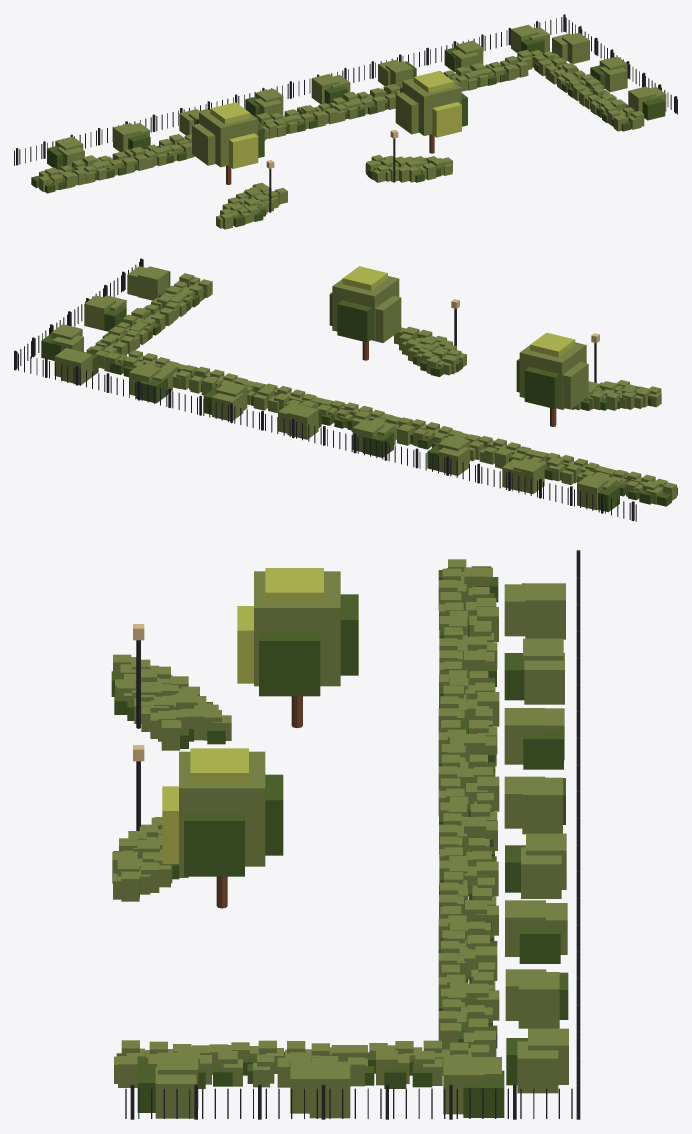
Rendered from chunk_-1_-3.glb.
3 renders of one model, top to bottom at view 1: azimuth 30°, elevation 25°; view 2: azimuth 150°, elevation 25°; view 3: azimuth 270°, elevation 25°, orthographic. The views are drawn at different scales.
Visible parts, largest first — view 1: chunk_-1_-3__tree, chunk_-1_-3__feat_garden, chunk_-1_-3__lamp; view 2: chunk_-1_-3__tree, chunk_-1_-3__feat_garden; view 3: chunk_-1_-3__tree, chunk_-1_-3__feat_garden, chunk_-1_-3__lamp.
Part boxes in pixels (left/top/right/bottom): chunk_-1_-3__tree: left=31, top=24, right=666, bottom=229; chunk_-1_-3__feat_garden: left=14, top=14, right=677, bottom=165; chunk_-1_-3__lamp: left=266, top=129, right=398, bottom=212; chunk_-1_-3__tree: left=41, top=266, right=677, bottom=512; chunk_-1_-3__feat_garden: left=14, top=258, right=636, bottom=521; chunk_-1_-3__tree: left=111, top=559, right=568, bottom=1118; chunk_-1_-3__feat_garden: left=125, top=550, right=580, bottom=1119; chunk_-1_-3__lamp: left=133, top=624, right=144, bottom=830.
Size of the model in its own units: 50.36 by 6.35 by 18.38.
